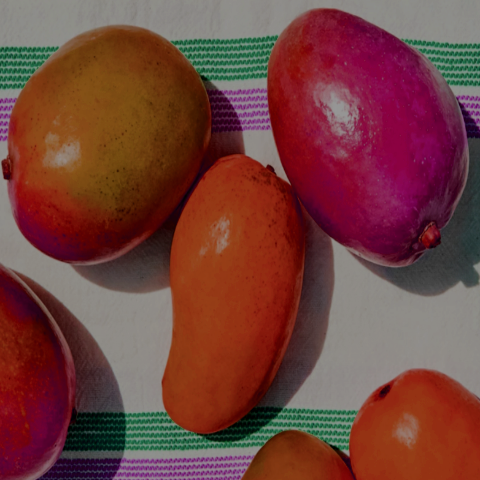mango: (251, 0, 480, 312), (0, 6, 221, 313), (151, 130, 319, 454)
